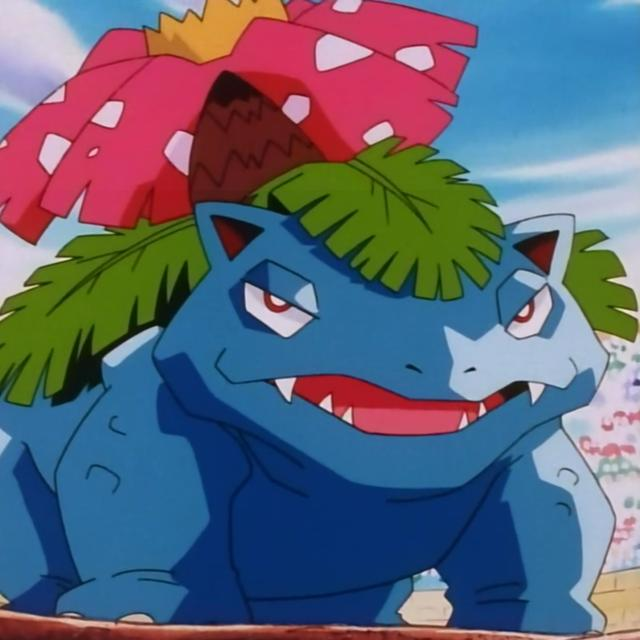Venusaur: (47, 5, 598, 640)
